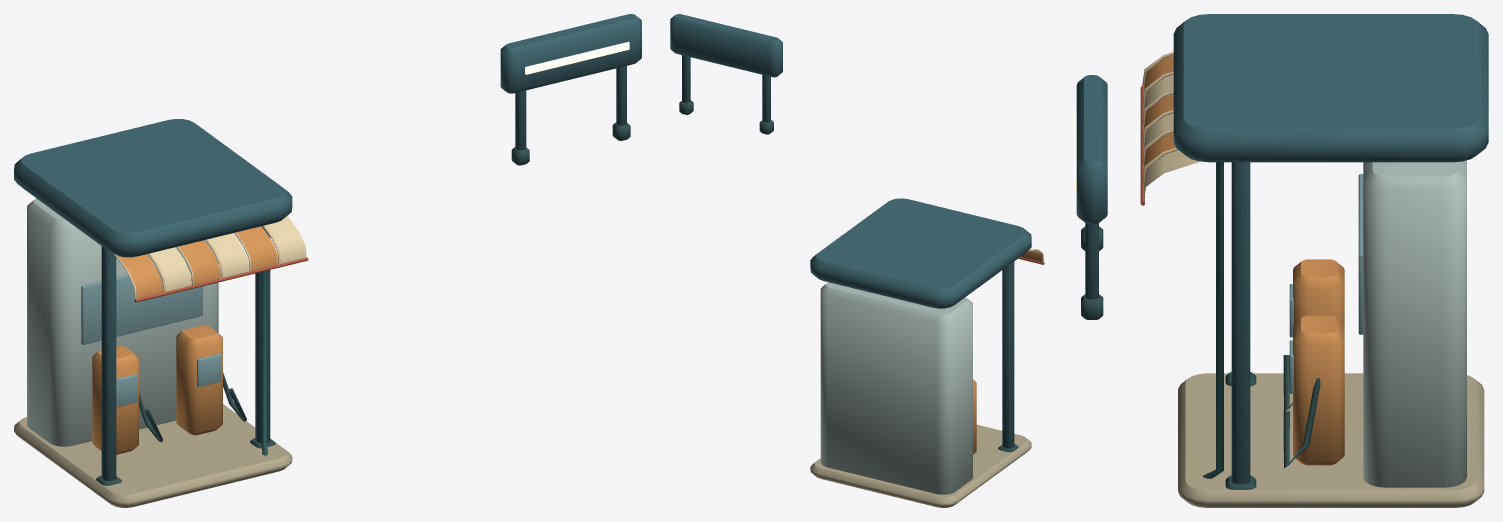
The model's file is harbor_fuel_4.glb.
3 renders of one model, left to right at view 1: azimuth 30°, elevation 25°; view 2: azimuth 150°, elevation 25°; view 3: azimuth 270°, elevation 25°, orthographic. The views are drawn at different scales.
Parts seen in each view (by area): view 1: HarborFuel4; view 2: HarborFuel4; view 3: HarborFuel4.
Boxes of the visible parts, x1,y1,x2,y2 form: HarborFuel4: (14,14,641,507); HarborFuel4: (670,14,1044,507); HarborFuel4: (1073,14,1488,507).
Bounding box in the file's own units: 6.34 × 4.95 × 3.36.
